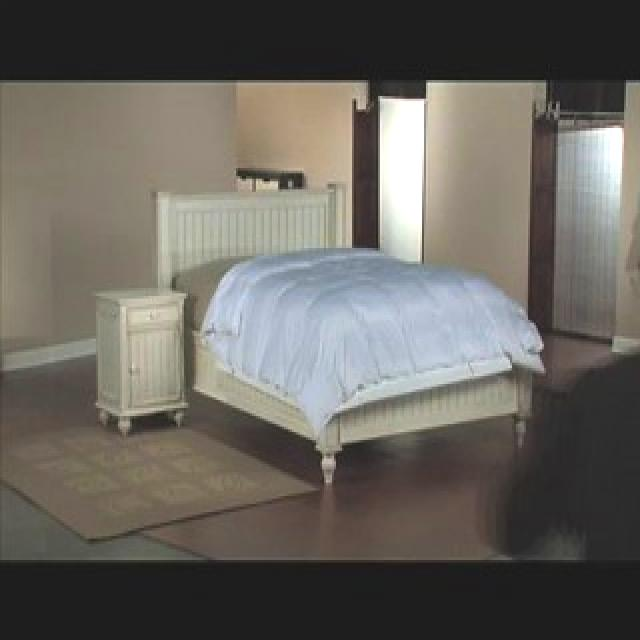bed: (148, 178, 538, 487)
